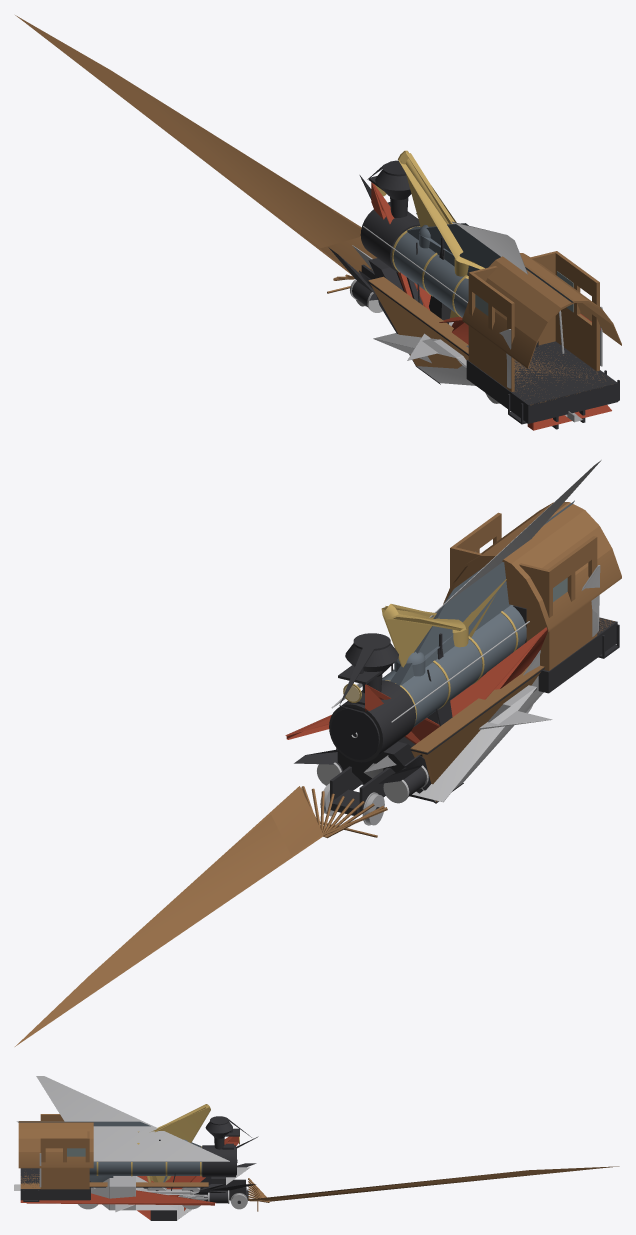
File: engine.glb
The picture shows the model from 3 angles, top to bottom: view 1: azimuth 30°, elevation 25°; view 2: azimuth 150°, elevation 25°; view 3: azimuth 270°, elevation 25°; orthographic projection. The views are drawn at different scales.
Visible parts, largest first — view 1: Body, SideRodL; view 2: Body, SideRodL; view 3: Body, SideRodR, Pony.
Boxes of the visible parts, box(x1,y1,x2,y2) form: Body: box(15, 15, 621, 430); SideRodL: box(373, 333, 466, 367); Body: box(15, 460, 621, 1046); SideRodL: box(412, 685, 536, 802); Body: box(14, 1076, 619, 1220); SideRodR: box(91, 1176, 198, 1210); Pony: box(230, 1187, 247, 1209).
Bounding box in the file's own units: 3.91 × 5.3 × 22.94.
